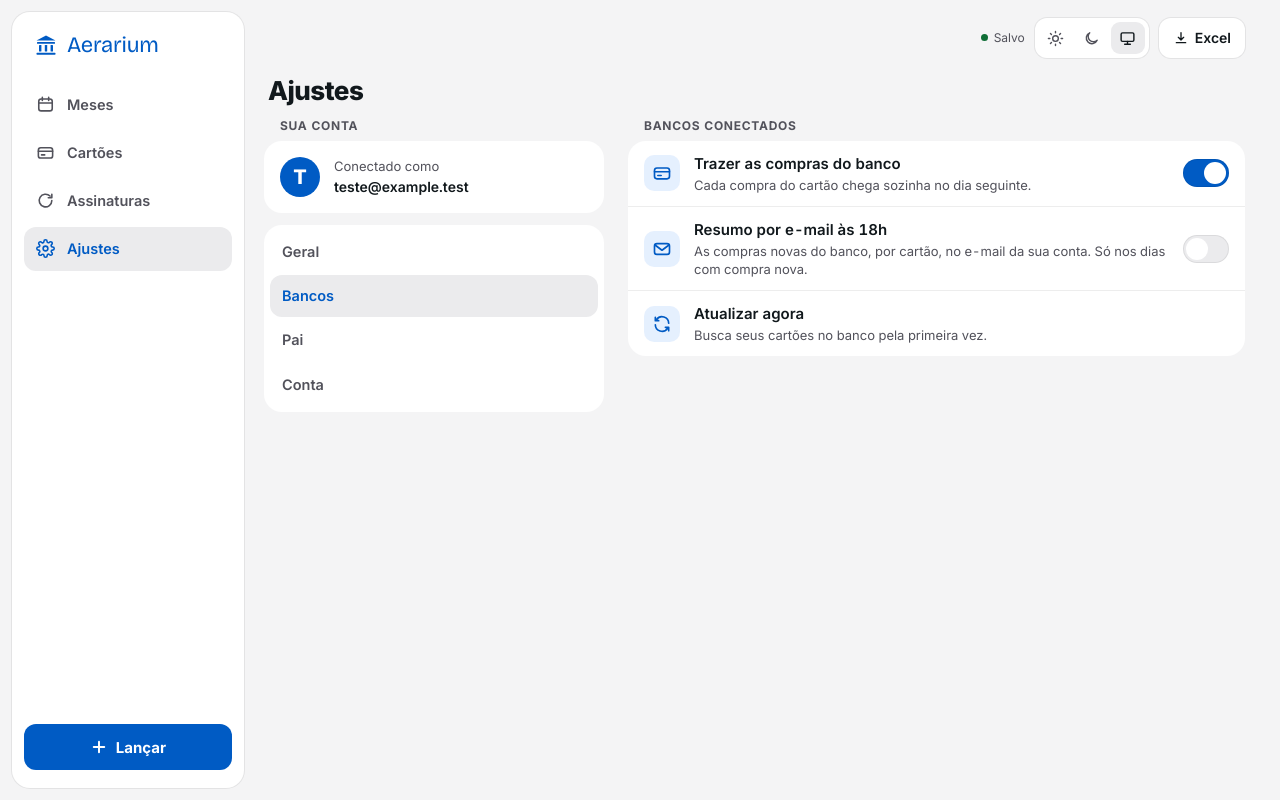
Test case: trazer as compras do banco (28/10/2026) › desligado: só o total do banco, e o resto é do Pai
The image size is (1280, 800).
Click the checkbox labelled "Trazer as compras do banco" at (1206, 173), box [1183,159,1229,187]
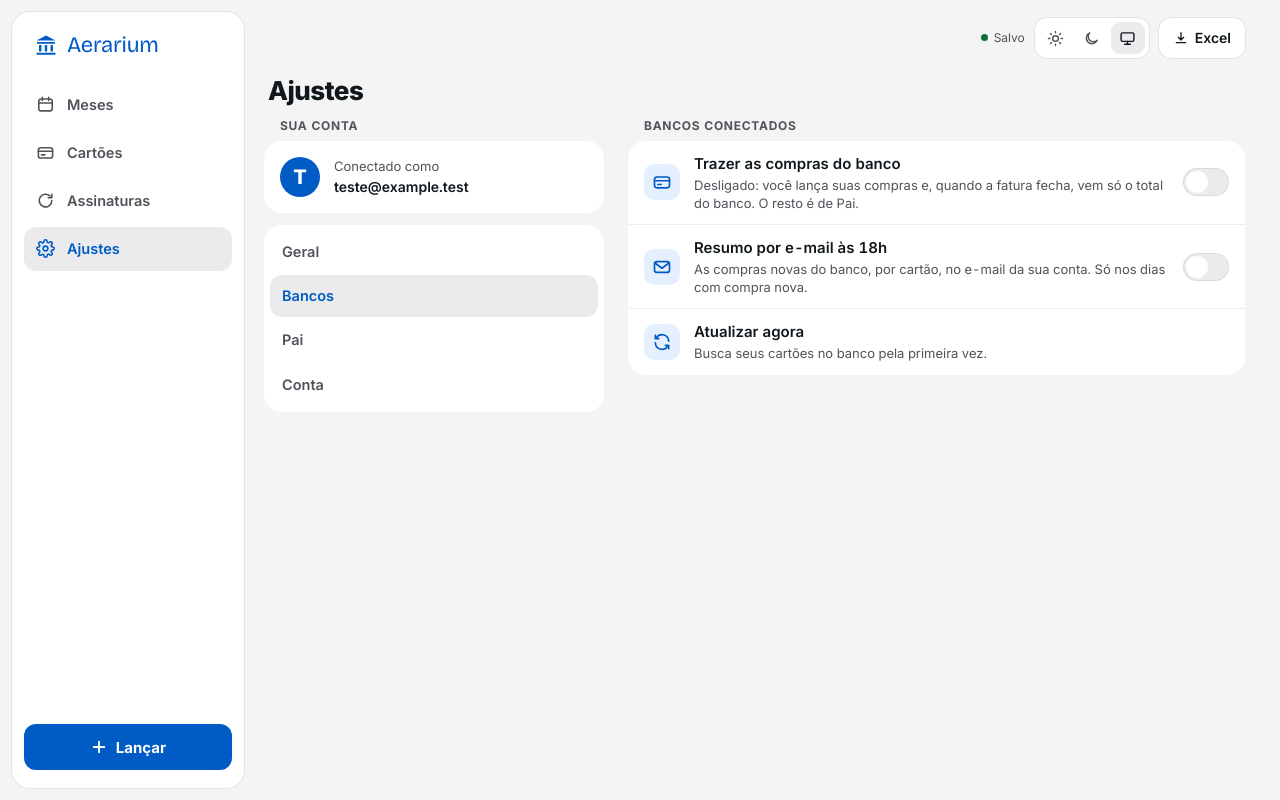
Expected: the checkbox labelled "Trazer as compras do banco" is not checked, [1183,168,1229,196]
Expected: the text "vem só o total do banco. O resto é de Pai." is shown, [694,177,1163,211]
Click the link "Pai" at (293, 340), box [282,331,303,348]
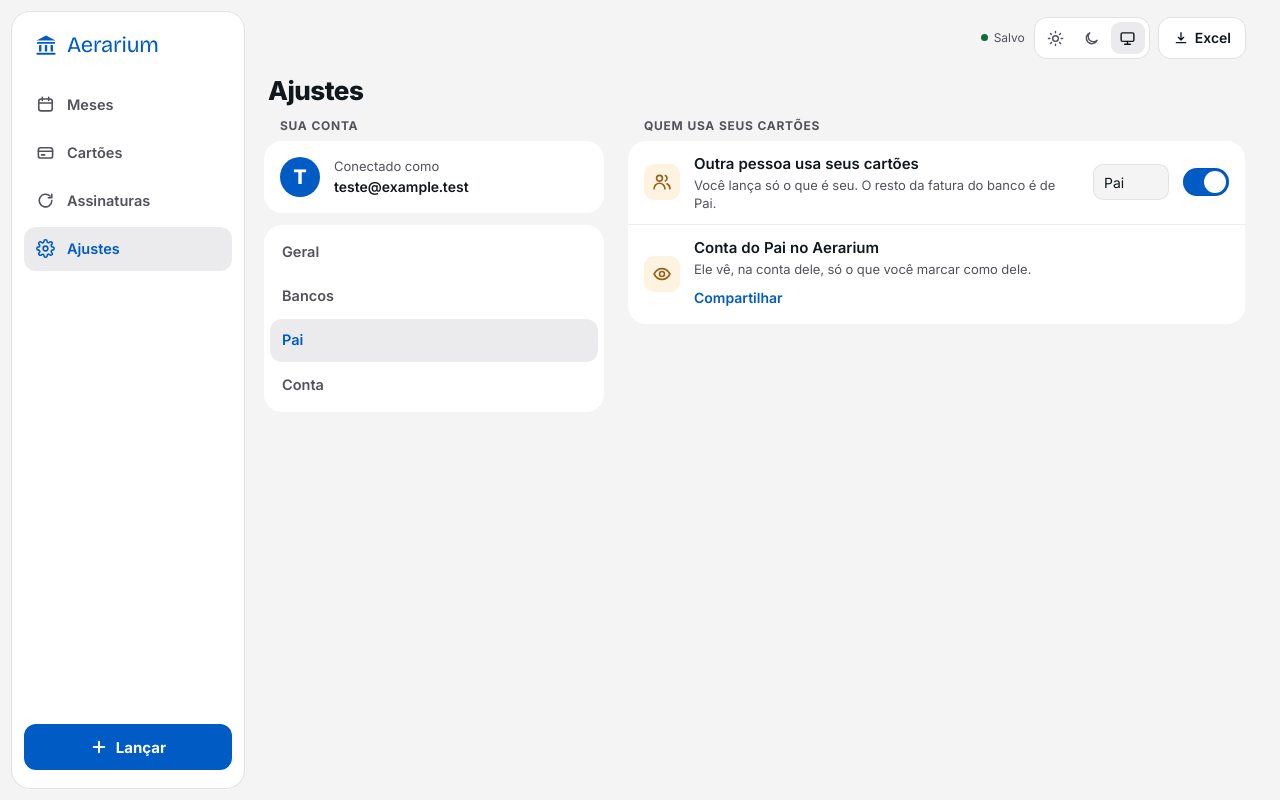
Expected: the text "Você lança só o que é seu. O resto da fatura do banco é de Pai." is shown, [694,176,1079,212]
